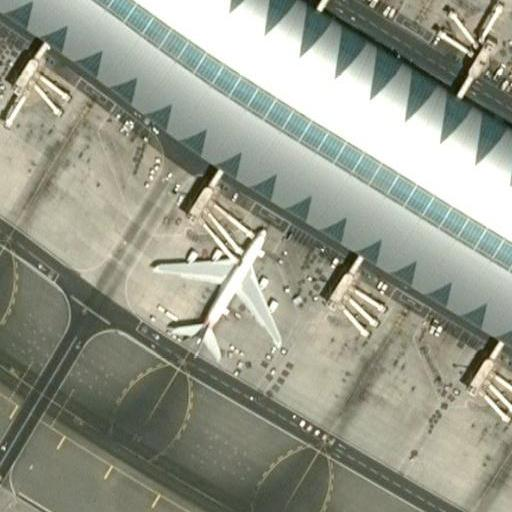Aircraft: (142, 217, 289, 358)
